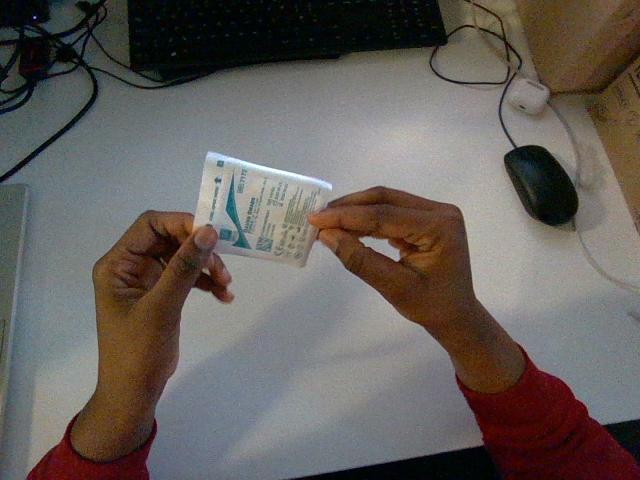gauze: (194, 152, 331, 266)
